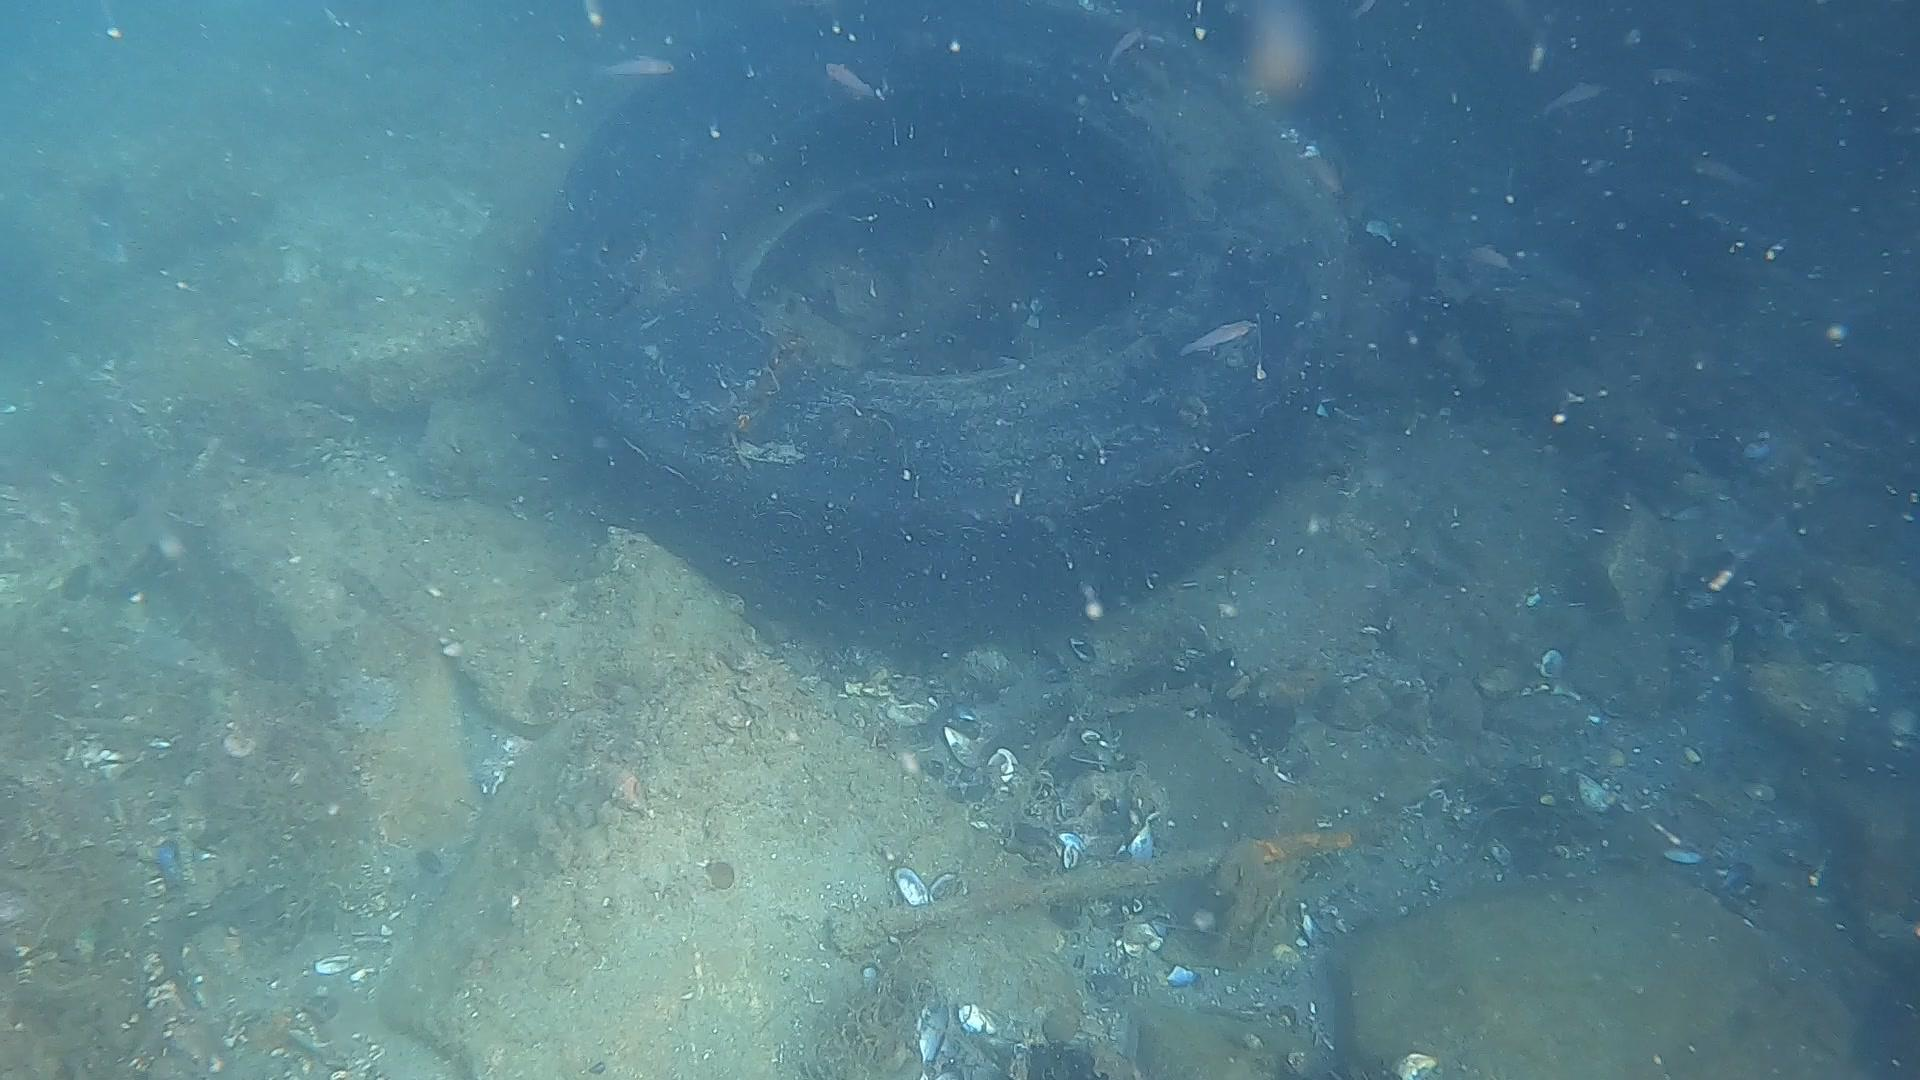tire: (533, 7, 1357, 628)
